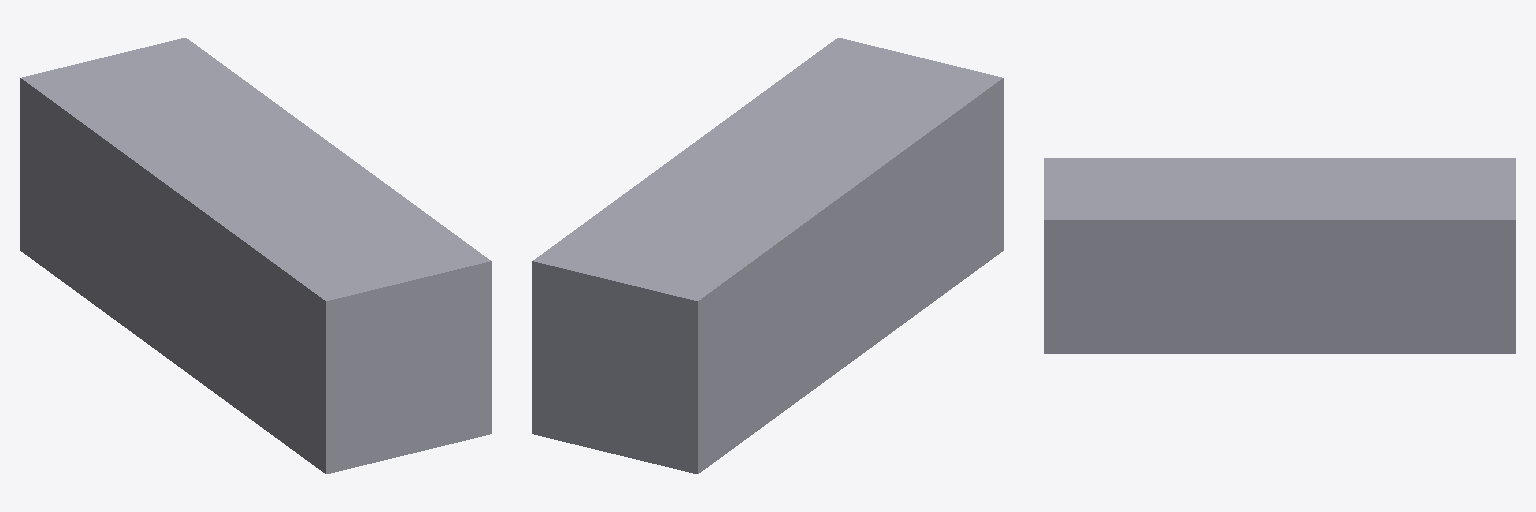
The robot description file, URDF, robot "prism_workpiece":
<?xml version="1.0"?>
<robot name="prism_workpiece">

  <link name="base_link">
    <visual>
      <origin xyz="0 0 0" rpy="0 0 0"/>
      <geometry>
        <box size="0.25 0.80 0.25"/>
      </geometry>
      <material name="steel">
        <color rgba="0.7 0.7 0.75 1"/>
      </material>
    </visual>
    <collision>
      <origin xyz="0 0 0" rpy="0 0 0"/>
      <geometry>
        <box size="0.25 0.80 0.25"/>
      </geometry>
    </collision>
    <inertial>
      <mass value="10.0"/>
      <origin xyz="0 0 0" rpy="0 0 0"/>
      <inertia ixx="0.5854" ixy="0.0" ixz="0.0"
               iyy="0.1042" iyz="0.0"
               izz="0.5854"/>
    </inertial>
  </link>

</robot>

--- Render facts (derived) ---
3 views of the same robot in one strip: view 1: azimuth 30°, elevation 25°; view 2: azimuth 150°, elevation 25°; view 3: azimuth 270°, elevation 25° (orthographic).
Robot: prism_workpiece — 1 links, 0 joints (none); root link base_link; default pose: all joints at 0.
Links seen in each view (by area): view 1: base_link; view 2: base_link; view 3: base_link.
Boxes of the visible links, left/top/right/bottom form: base_link: left=20, top=38, right=491, bottom=473; base_link: left=532, top=38, right=1003, bottom=473; base_link: left=1044, top=158, right=1515, bottom=353.
Size in the robot's own frame: 0.25 by 0.8 by 0.25 metres.
Geometry: primitives only (box / cylinder / sphere), no mesh files.
